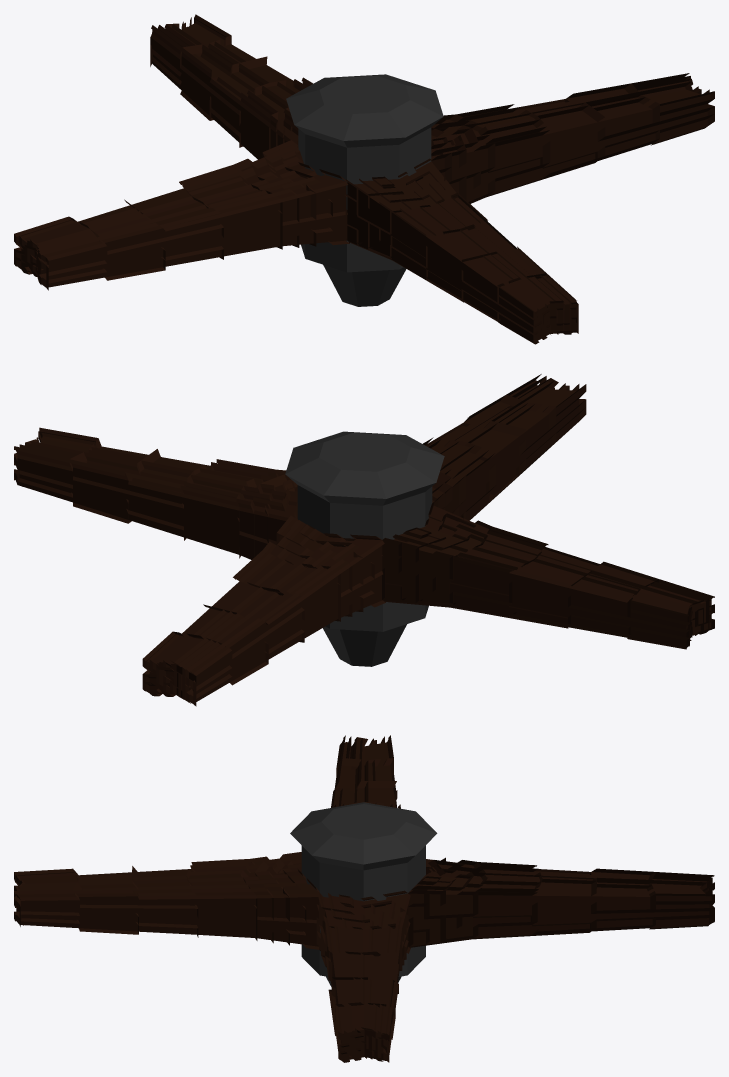
File: spinning.fbx
3 views of the same model, one above another, from view 1: azimuth 30°, elevation 25°; view 2: azimuth 150°, elevation 25°; view 3: azimuth 270°, elevation 25° (orthographic). The views are drawn at different scales.
Parts seen in each view (by area): view 1: Cylinder.003, Cylinder.004, Cylinder.002, Cylinder, Cylinder.001; view 2: Cylinder.003, Cylinder.001, Cylinder.004, Cylinder, Cylinder.002; view 3: Cylinder.002, Cylinder.001, Cylinder.004, Cylinder, Cylinder.003.
Boxes of the visible parts, x1,y1,x2,y2 form: Cylinder.003: [14, 140, 349, 290]; Cylinder.004: [431, 73, 714, 203]; Cylinder.002: [345, 158, 578, 344]; Cylinder: [286, 74, 443, 306]; Cylinder.001: [150, 14, 313, 159]; Cylinder.003: [382, 502, 714, 649]; Cylinder.001: [142, 515, 385, 706]; Cylinder.004: [14, 427, 297, 559]; Cylinder: [285, 431, 444, 666]; Cylinder.002: [423, 374, 586, 520]; Cylinder.002: [14, 852, 319, 949]; Cylinder.001: [408, 857, 714, 947]; Cylinder.004: [316, 890, 410, 1062]; Cylinder: [290, 802, 437, 986]; Cylinder.003: [331, 735, 400, 808].
Bounding box in the file's own units: 1127 × 323 × 1127.
